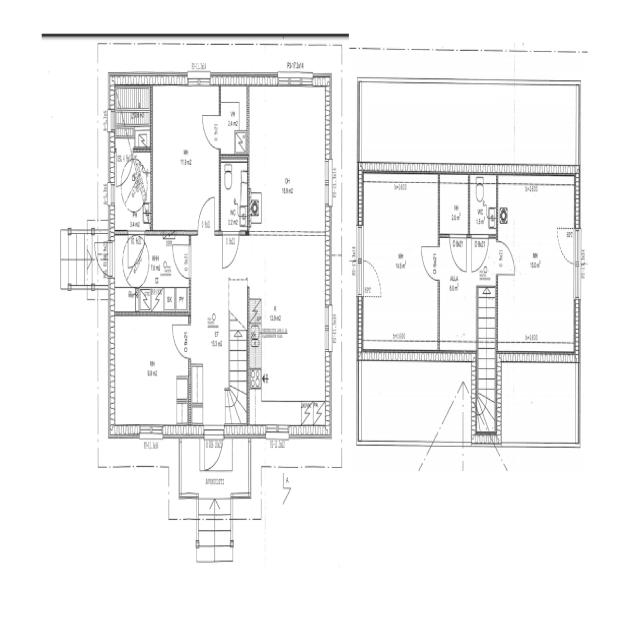door: (202, 427, 226, 474), (357, 255, 383, 298), (554, 223, 578, 265), (170, 316, 192, 360), (93, 234, 114, 279), (171, 236, 192, 280), (419, 241, 441, 283), (495, 235, 517, 276), (448, 230, 468, 274), (200, 110, 221, 150), (221, 229, 241, 271), (470, 231, 490, 272), (196, 194, 216, 234)
window: (573, 235, 584, 305), (138, 421, 167, 444), (278, 70, 313, 89), (264, 423, 292, 445), (323, 298, 333, 358), (186, 68, 213, 88), (324, 151, 333, 210), (354, 220, 365, 261)
zone: (248, 231, 330, 432), (498, 175, 577, 358), (360, 176, 439, 354), (247, 81, 329, 234), (150, 81, 220, 234), (111, 312, 190, 432), (115, 231, 188, 314), (438, 250, 476, 353), (115, 146, 152, 230), (114, 76, 152, 142), (219, 81, 249, 158), (220, 155, 248, 233), (438, 172, 470, 236), (468, 170, 498, 235)
